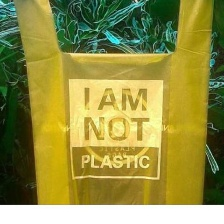plastic_bag: (10, 0, 215, 208)
